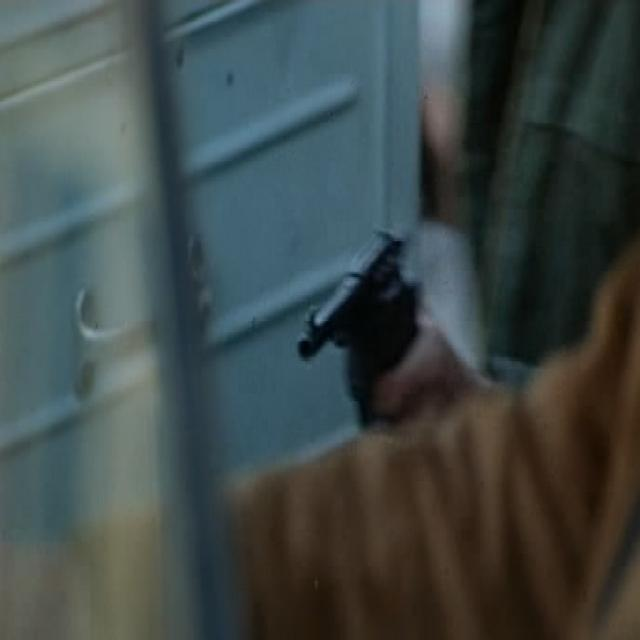gun-knife-thesis - v11 Yolov5 augmented: (305, 223, 452, 423)
